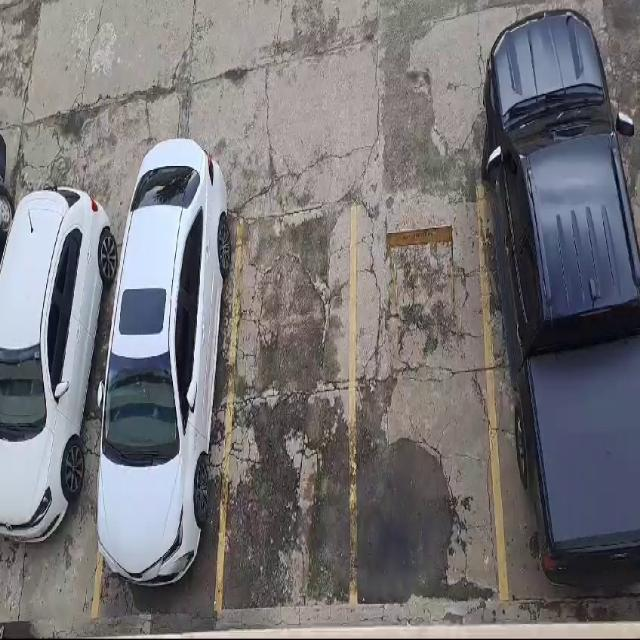empty: (354, 188, 505, 603), (219, 206, 355, 611)
notEmpty: (480, 164, 639, 602), (91, 218, 241, 615), (0, 233, 134, 615)
